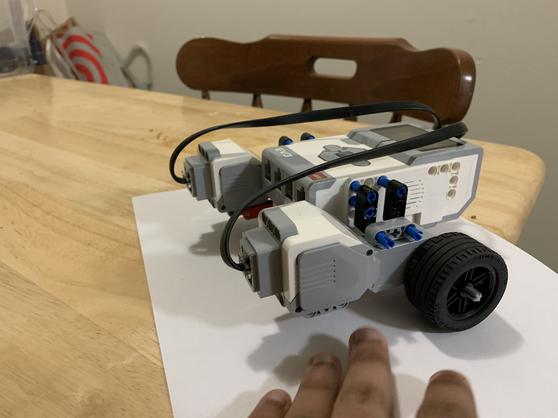robot: (169, 101, 514, 326)
